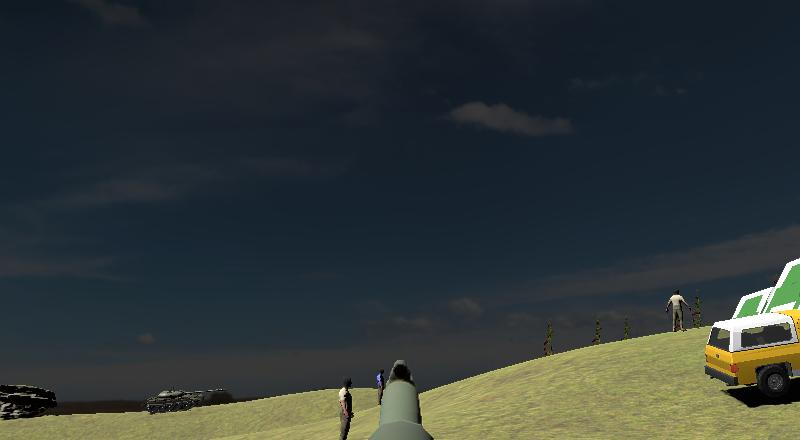Human: (333, 372, 359, 440), (373, 365, 390, 410)
Tank: (139, 382, 234, 419)
car: (703, 308, 800, 406)
